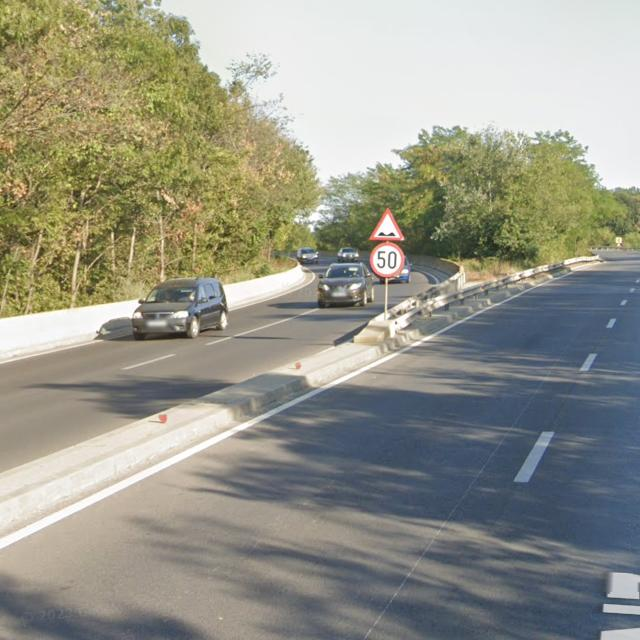forb_speed_over_50: (370, 242, 404, 278)
warn_slippery_road: (370, 208, 404, 240)
